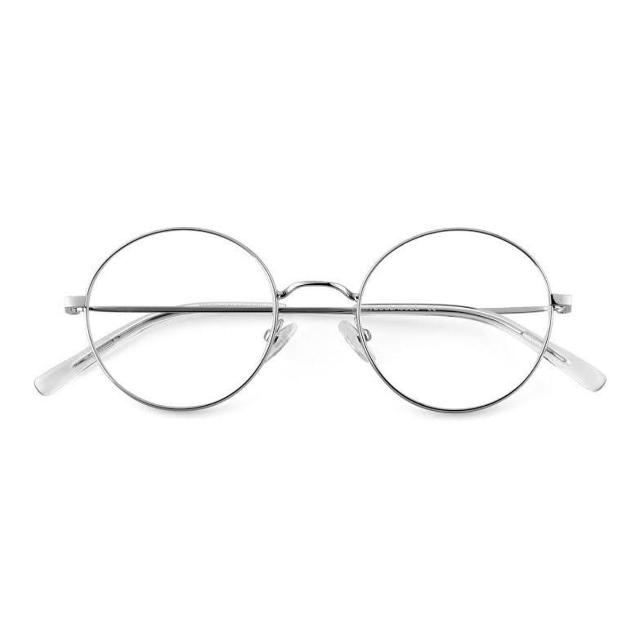glasses: (34, 222, 613, 432)
